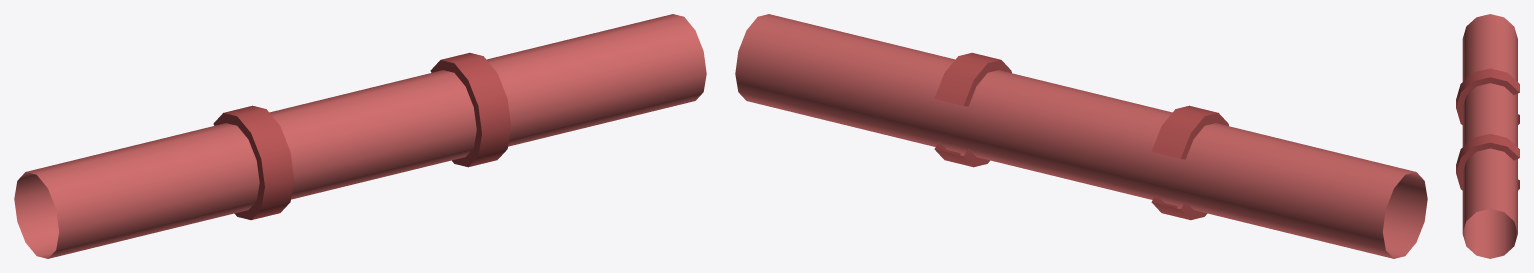
File: Pipa3.dae
The picture shows the model from 3 angles, left to right: view 1: azimuth 30°, elevation 25°; view 2: azimuth 150°, elevation 25°; view 3: azimuth 270°, elevation 25°; orthographic projection. The views are drawn at different scales.
Parts seen in each view (by area): view 1: Cylinder.032; view 2: Cylinder.032; view 3: Cylinder.032.
Boxes of the visible parts, x1,y1,x2,y2 form: Cylinder.032: [14, 14, 706, 258]; Cylinder.032: [735, 14, 1427, 258]; Cylinder.032: [1456, 14, 1519, 258].
Size of the model in its own units: 3 by 0.4155 by 0.4454.
